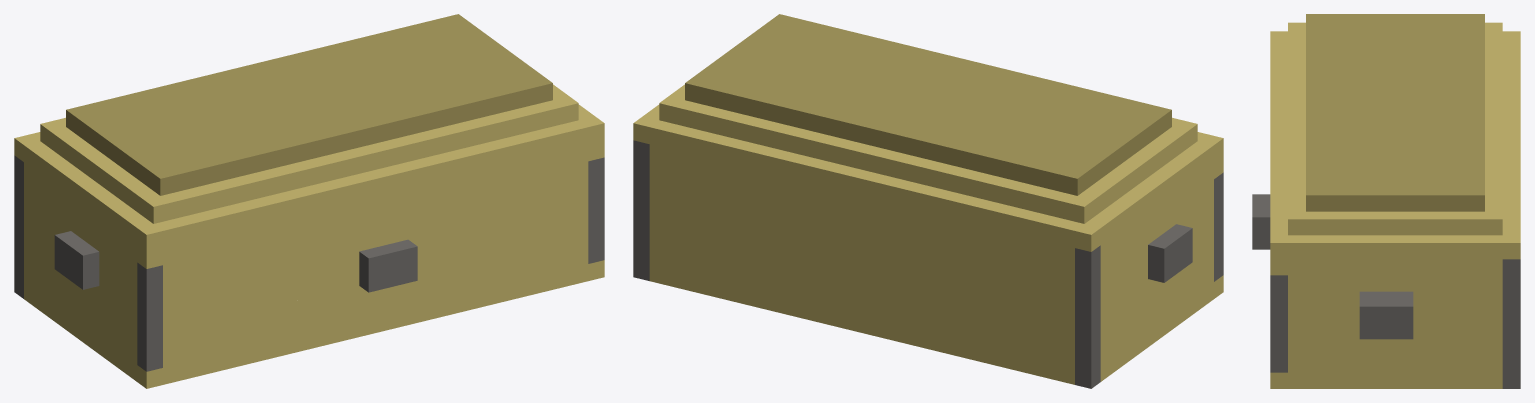
The model's file is cofre_ornamentado_oro_01.glb.
3 views of the same model, side by side, from view 1: azimuth 30°, elevation 25°; view 2: azimuth 150°, elevation 25°; view 3: azimuth 270°, elevation 25° (orthographic). The views are drawn at different scales.
Visible parts, largest first — view 1: cofre_ornamentado_oro; view 2: cofre_ornamentado_oro; view 3: cofre_ornamentado_oro.
Boxes of the visible parts, x1=… form: cofre_ornamentado_oro: x1=14, y1=14, x2=604, y2=388; cofre_ornamentado_oro: x1=633, y1=14, x2=1223, y2=388; cofre_ornamentado_oro: x1=1252, y1=14, x2=1520, y2=388.
Bounding box in the file's own units: 2.21 × 0.7857 × 1.07.
